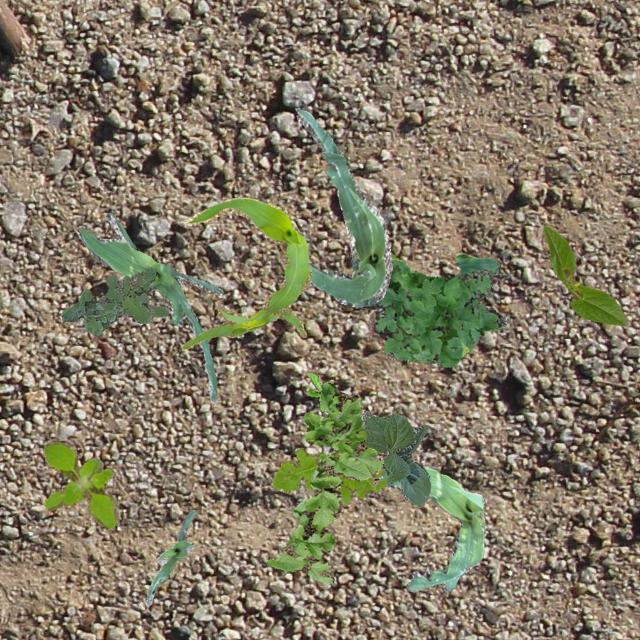crop: (78, 212, 222, 402), (180, 196, 310, 350), (296, 108, 390, 306), (378, 466, 483, 590), (542, 224, 626, 324), (358, 410, 428, 506), (146, 509, 194, 604)
weed: (266, 380, 382, 582), (360, 252, 502, 366), (270, 428, 386, 504), (60, 266, 166, 334), (43, 440, 119, 530), (306, 372, 339, 411)
